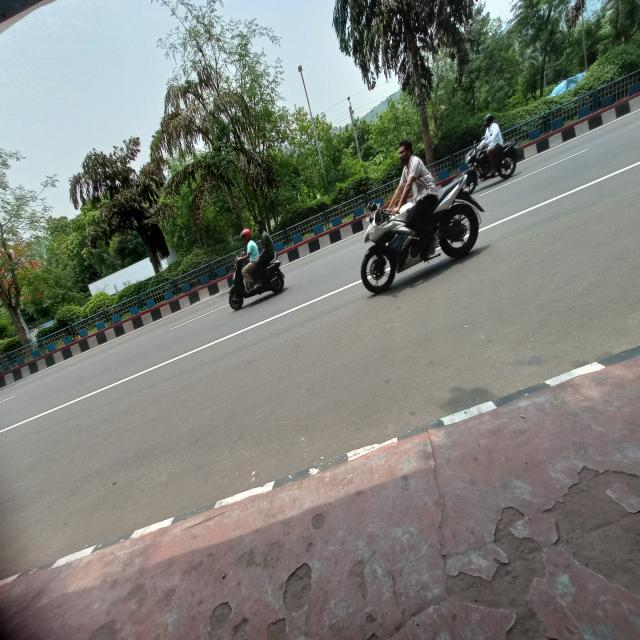bike: (336, 197, 482, 294), (223, 252, 298, 322), (458, 148, 521, 188)
